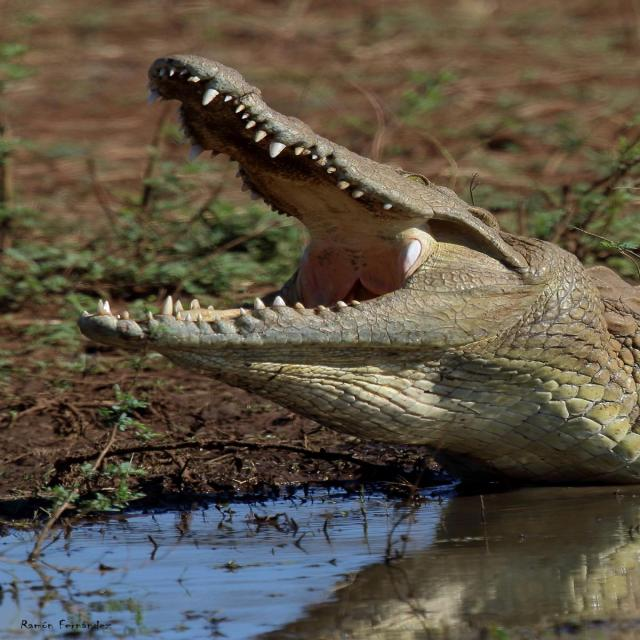crocodile: (61, 37, 639, 515)
